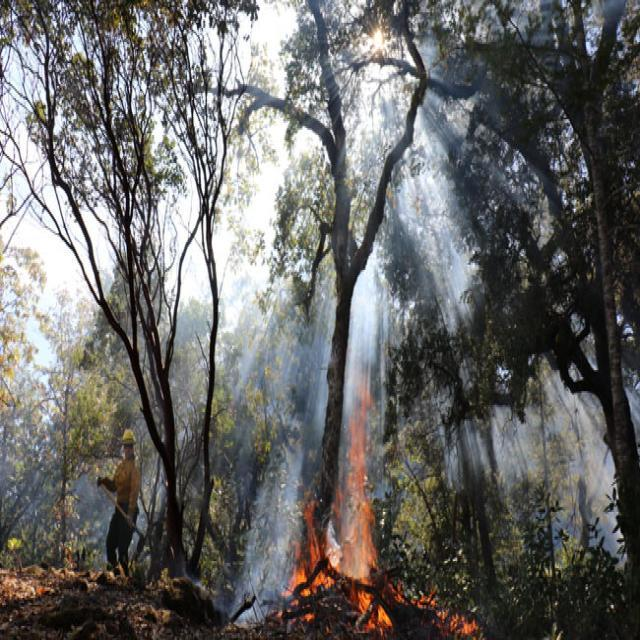Fire: (346, 373, 394, 634), (280, 484, 345, 625), (396, 582, 478, 640)
Smoke: (231, 538, 288, 626)
